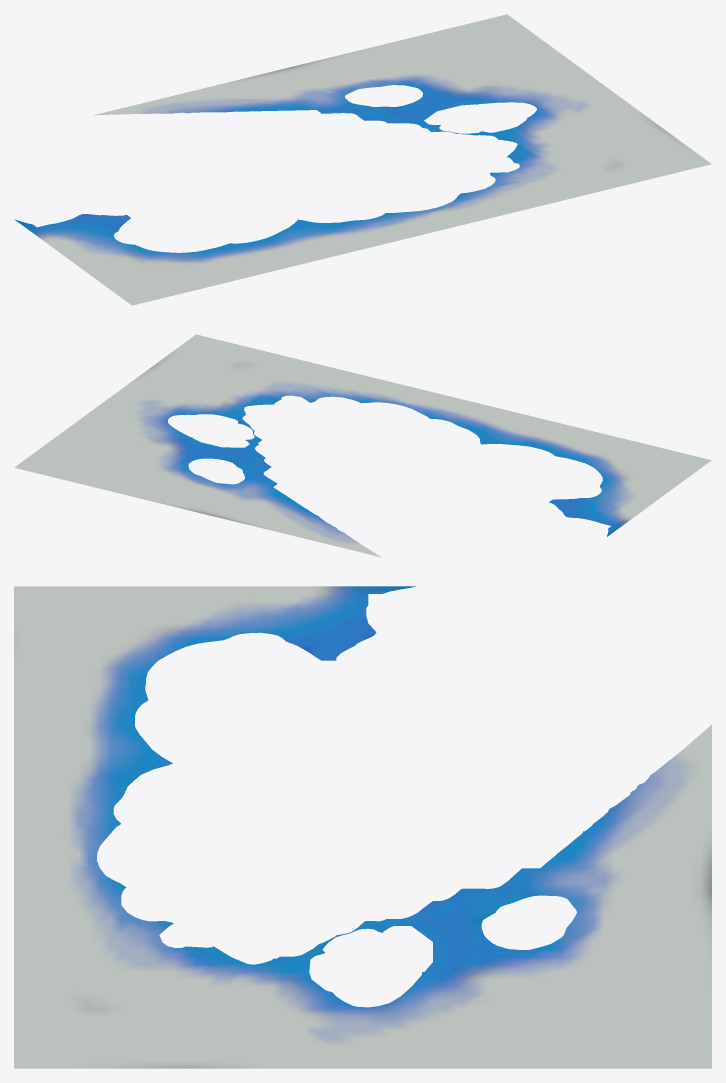
File: map.fbx
3 views of the same model, one above another, from view 1: azimuth 30°, elevation 25°; view 2: azimuth 150°, elevation 25°; view 3: azimuth 270°, elevation 25° (orthographic). The views are drawn at different scales.
Visible parts, largest first — view 1: map; view 2: map; view 3: map.
Boxes of the visible parts, left/top/right/bottom form: map: left=14, top=14, right=711, bottom=305; map: left=14, top=334, right=711, bottom=557; map: left=14, top=586, right=711, bottom=1068.
Size of the model in its own units: 163 by 0.000284 by 100.
